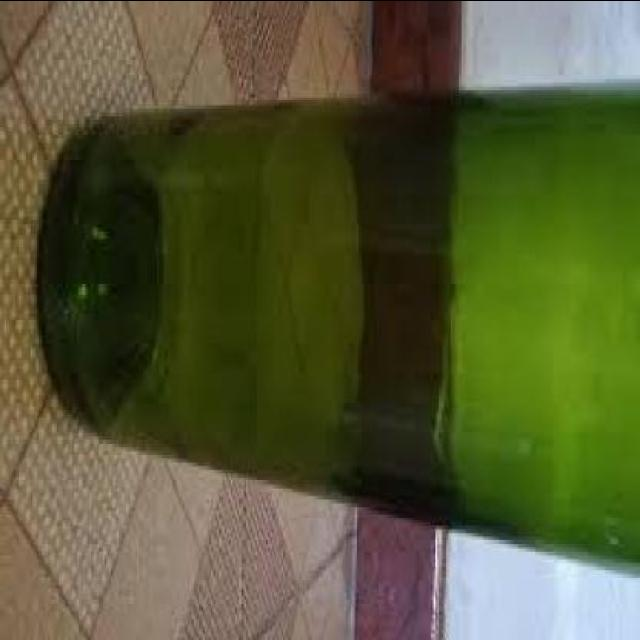kaca: (37, 89, 640, 580)
